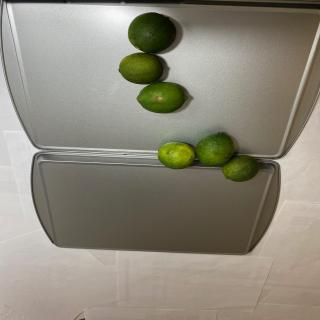Lemon: (128, 12, 176, 53), (136, 82, 188, 114), (118, 52, 164, 85), (195, 132, 235, 166), (157, 142, 195, 170), (222, 155, 260, 182)
